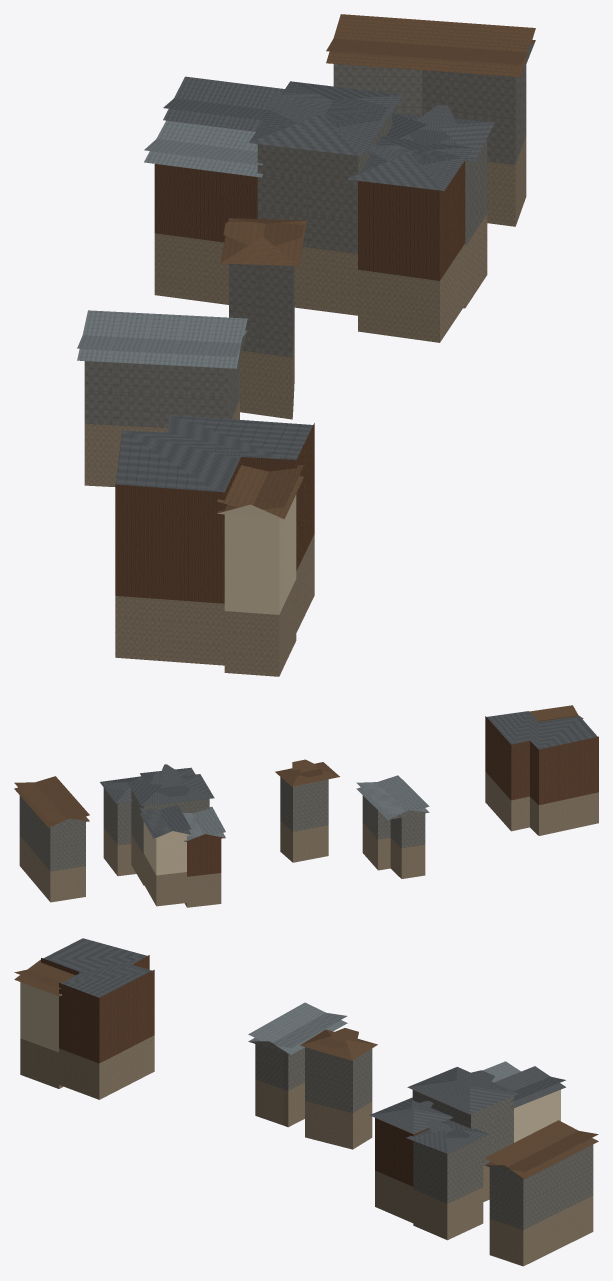
The model's file is bld_c14_36_411.gltf.
The picture shows the model from 3 angles, top to bottom: view 1: azimuth 30°, elevation 25°; view 2: azimuth 150°, elevation 25°; view 3: azimuth 270°, elevation 25°; orthographic projection. The views are drawn at different scales.
Visible parts, largest first — view 1: bld_c14_36_411; view 2: bld_c14_36_411; view 3: bld_c14_36_411.
Part boxes in pixels (box(x1,y1,x2,y2)): bld_c14_36_411: box(77, 14, 535, 676); bld_c14_36_411: box(14, 705, 598, 907); bld_c14_36_411: box(14, 938, 598, 1266).
Bounding box in the file's own units: 68.6 × 16 × 74.13.
10 materials, 10 textured.
